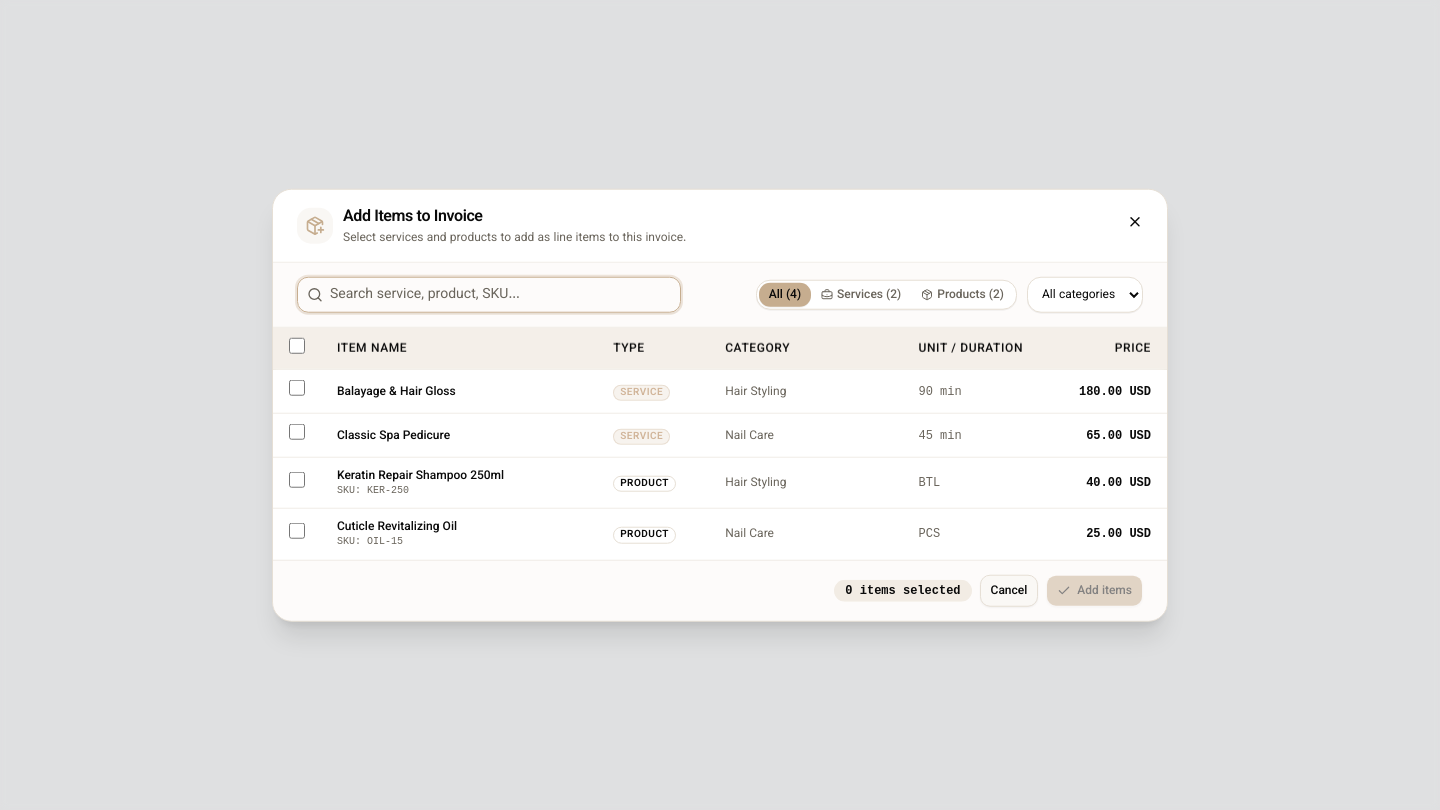
AddSalesItemModal › supports Select All visible items toggle
Select all visible (4 items)
Step 1. Click the checkbox named "select all visible items" → (297, 346), box [289,338,305,354]
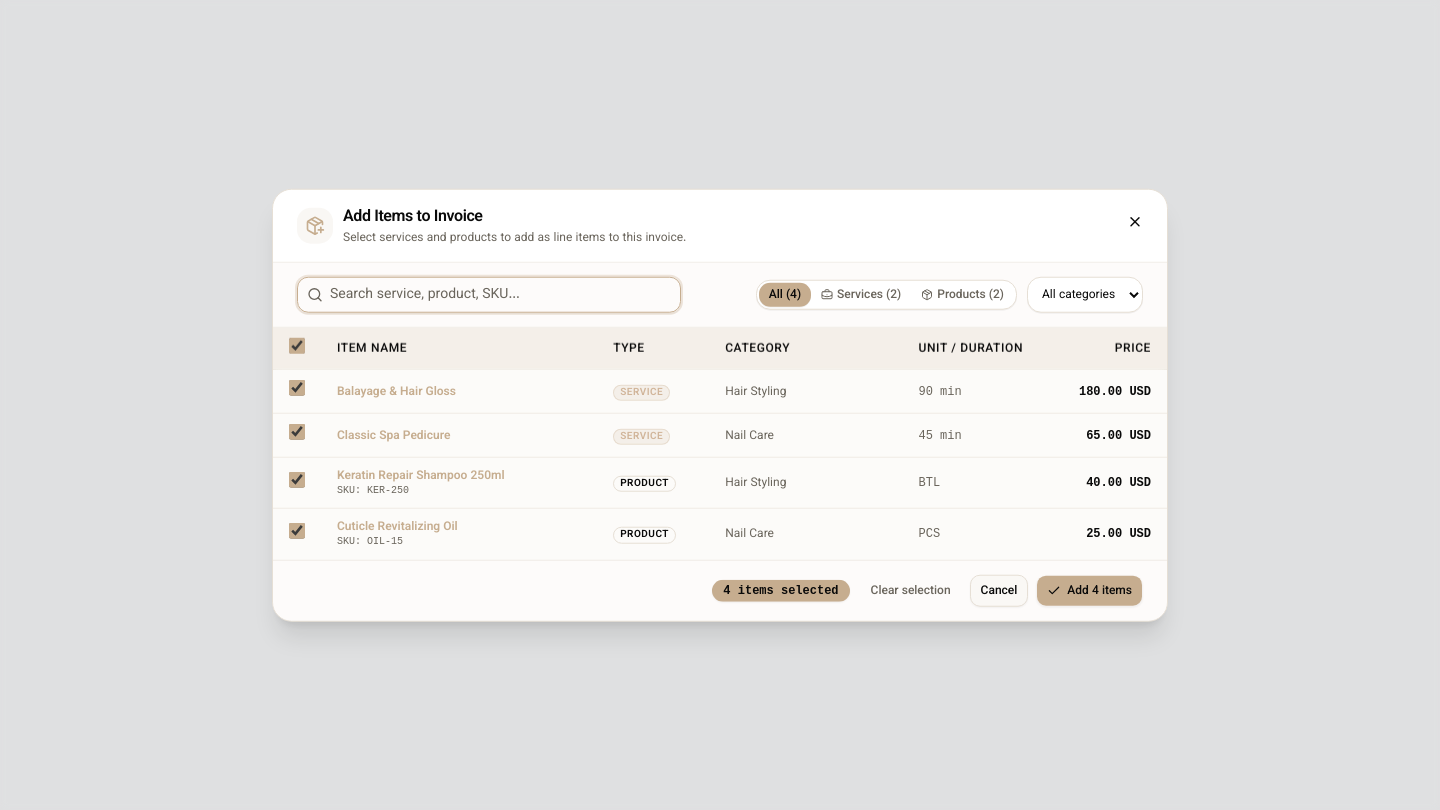
Expected: the text "4 items selected" is shown, [712,579,850,601]
Deselect all
Step 2. Click the checkbox named "select all visible items" → (297, 346), box [289,338,305,354]
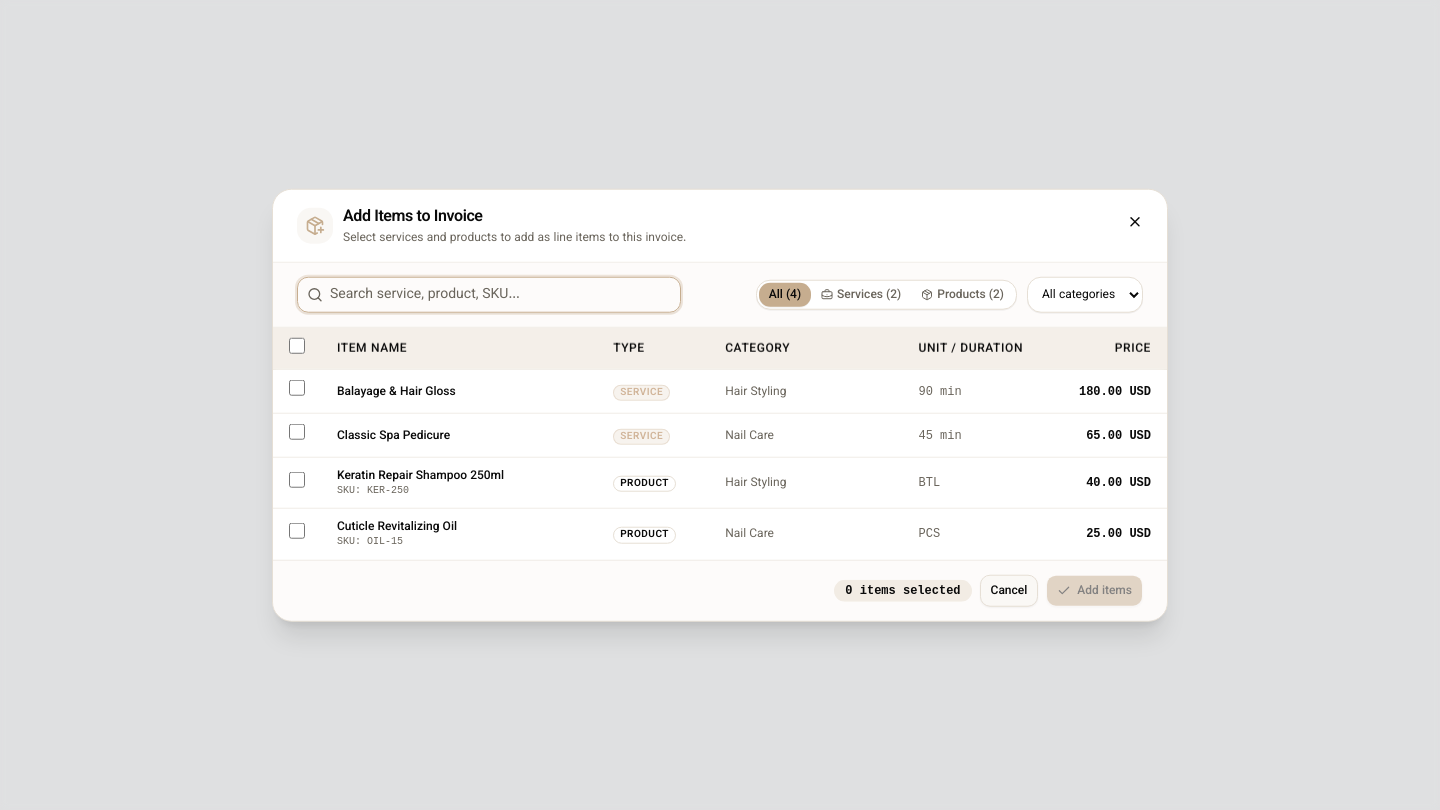
Expected: the text "0 items selected" is shown, [834,579,972,601]
